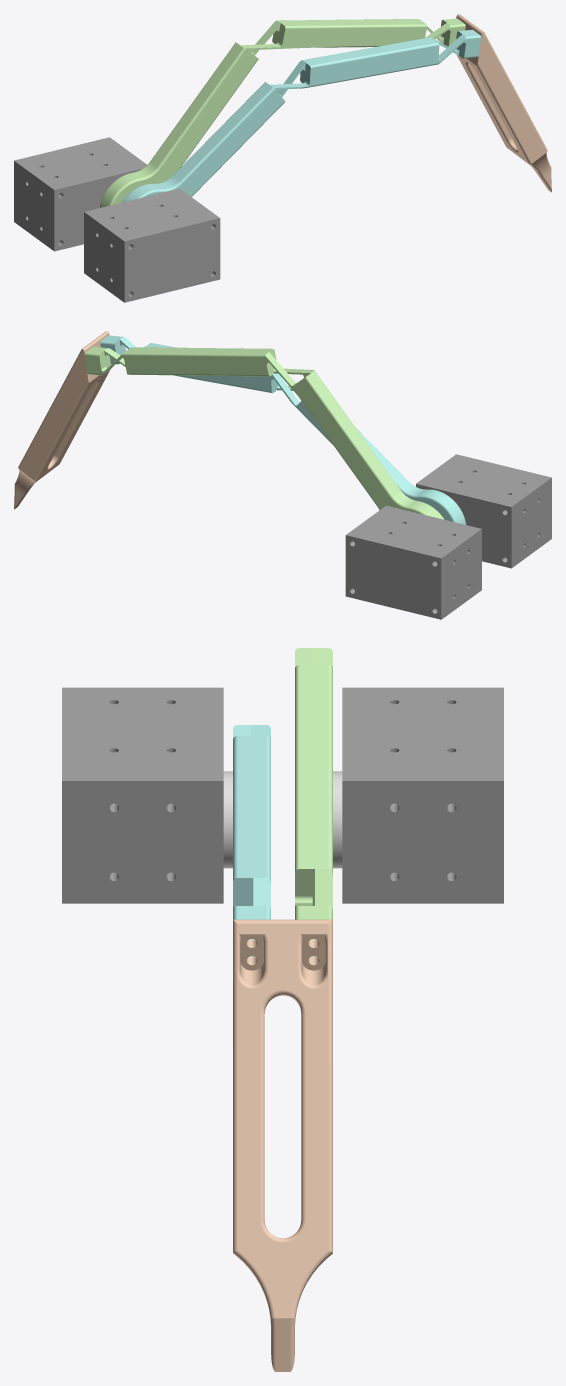
3 renders of one model, top to bottom at view 1: azimuth 30°, elevation 25°; view 2: azimuth 150°, elevation 25°; view 3: azimuth 270°, elevation 25°, orthographic. The views are drawn at different scales.
Visible parts, largest first — view 1: XL430-1, LinkC_102.1-1, LinkA_101.1-1, XL430-2, LinkE_103.1-1; view 2: XL430-2, LinkC_102.1-1, XL430-1, LinkE_103.1-1, LinkA_101.1-1; view 3: XL430-1, XL430-2, LinkE_103.1-1, LinkC_102.1-1, LinkA_101.1-1.
Boxes of the visible parts, x1,y1,x2,y2 form: XL430-1: [84, 188, 220, 302]; LinkC_102.1-1: [99, 18, 465, 207]; LinkA_101.1-1: [121, 29, 480, 202]; XL430-2: [14, 137, 146, 251]; LinkE_103.1-1: [456, 14, 551, 192]; XL430-2: [345, 505, 481, 619]; LinkC_102.1-1: [85, 346, 444, 519]; XL430-1: [416, 454, 551, 568]; LinkE_103.1-1: [14, 331, 111, 509]; LinkA_101.1-1: [100, 335, 466, 524]; XL430-1: [62, 687, 232, 903]; XL430-2: [333, 687, 503, 903]; LinkE_103.1-1: [233, 919, 332, 1371]; LinkC_102.1-1: [295, 648, 332, 957]; LinkA_101.1-1: [233, 725, 270, 957].
Size of the model in its own units: 0.2335 by 0.105 by 0.093.
